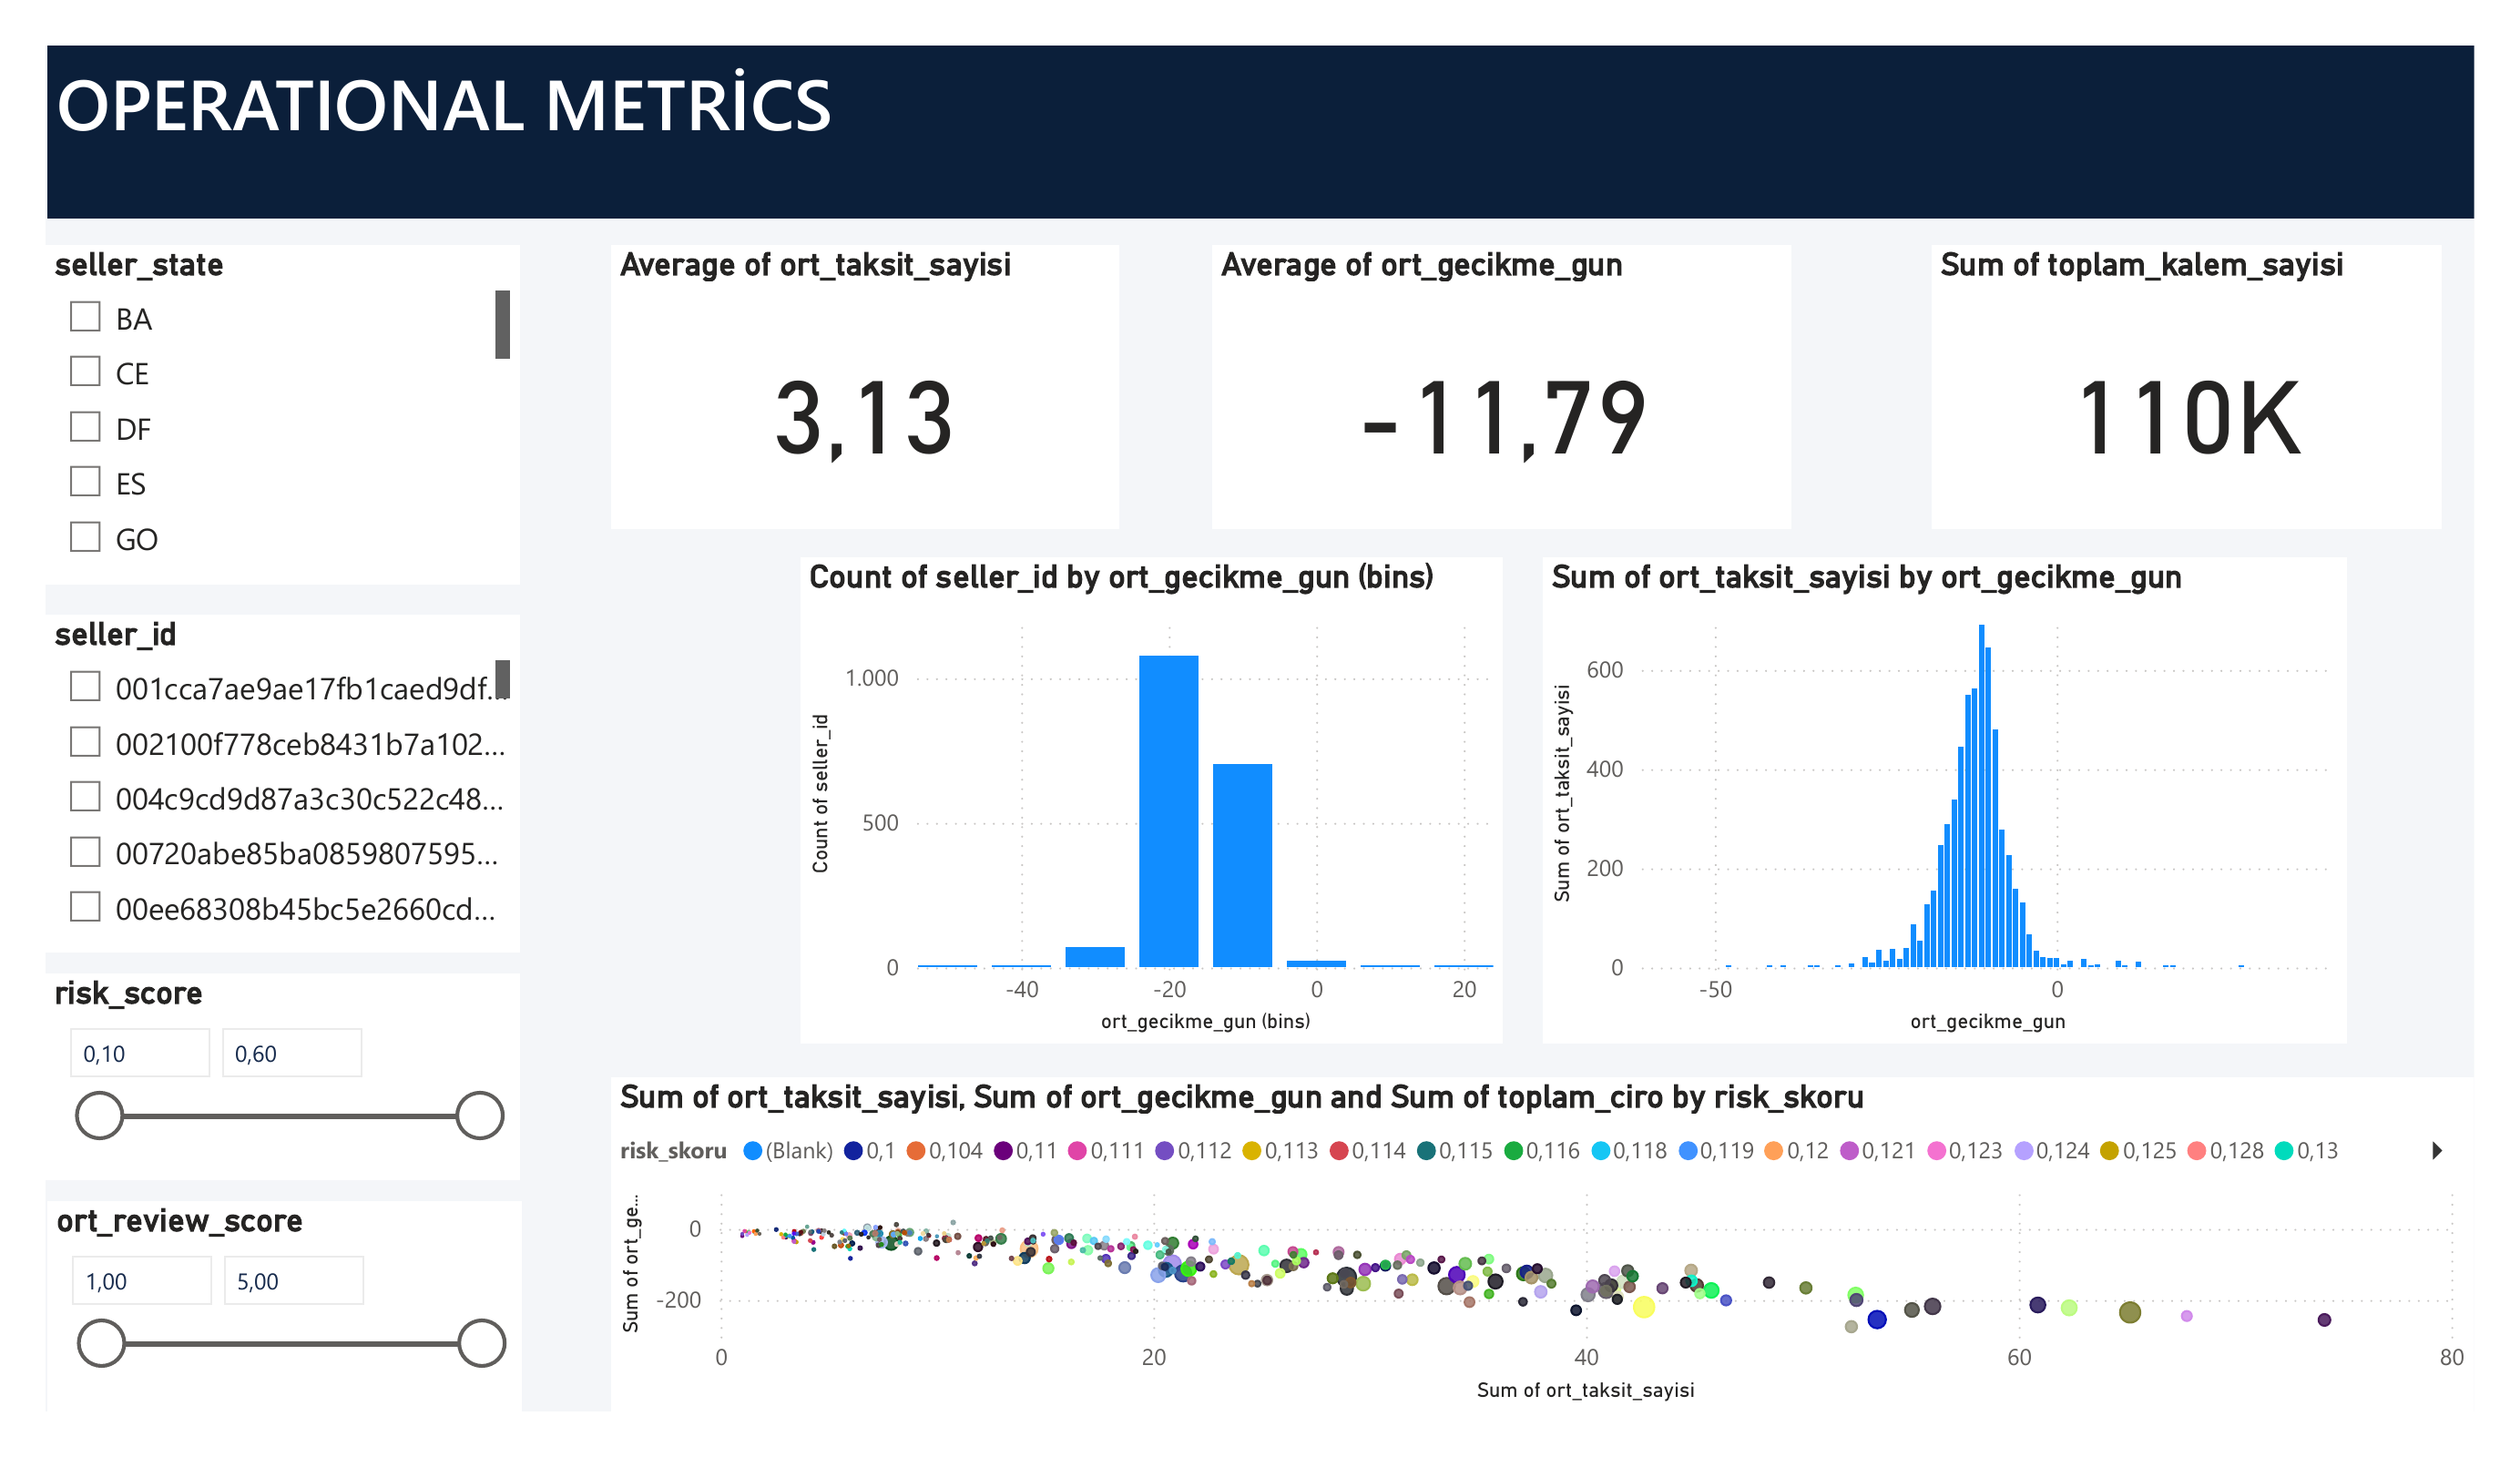

This screenshot's page, from the dashboard's own definition file:
{"tool":"powerbi","page":{"name":"Operational Metrics","canvas":[1280,720],"ordinal":5},"visuals":[{"type":"textbox","box":[1.4,0,1278.6,91.4],"z":0},{"type":"card","title":"Average of ort_taksit_sayisi","fields":{"Values":["Avg(Query1.ort_taksit_sayisi)"]},"box":[297.5,105,268.8,150],"z":1000},{"type":"card","title":"Average of ort_gecikme_gun","fields":{"Values":["Avg(Query1.ort_gecikme_gun)"]},"box":[615,105,305,150],"z":2000},{"type":"card","title":"Sum of toplam_kalem_sayisi","fields":{"Values":["Sum(Query1.toplam_kalem_sayisi)"]},"box":[993.8,105,268.8,150],"z":3000},{"type":"scatterChart","fields":{"X":["Sum(Query1.ort_taksit_sayisi)"],"Y":["Sum(Query1.ort_gecikme_gun)"],"Size":["Sum(Query1.toplam_ciro)"],"Series":["Query1.risk_skoru"]},"box":[297.5,543.8,982.5,176.2],"z":4000},{"type":"clusteredColumnChart","fields":{"Category":["Query1.ort_gecikme_gun (bins)"],"Y":["CountNonNull(Query1.seller_id)"]},"box":[397.5,270,370,256.2],"z":5000},{"type":"slicer","title":"seller_state","fields":{"Values":["Query1.seller_state"]},"box":[0,105,250,178.8],"z":6000},{"type":"slicer","title":"risk_score","fields":{"Values":["Query1.risk_skoru"]},"box":[0,488.8,250,108.8],"z":7000},{"type":"slicer","title":"seller_id","fields":{"Values":["Query1.seller_id"]},"box":[0,300,250,177.5],"z":8000},{"type":"slicer","title":"ort_review_score","fields":{"Values":["Query1.ort_review_score"]},"box":[1.2,608.8,250,111.2],"z":9000},{"type":"clusteredColumnChart","fields":{"Category":["Query1.ort_gecikme_gun"],"Y":["Sum(Query1.ort_taksit_sayisi)"]},"box":[788.8,270,423.8,256.2],"z":10000}]}

Visuals, with their boxes on the page's 1280x720 design canvas (x1, y1, x2, y2). These are canvas units, not pixel positions in the 2520x1457 screenshot, which may show the page scaled, cropped or inside an application window:
textbox: (left=1, top=0, right=1280, bottom=91)
"Average of ort_taksit_sayisi" card: (left=298, top=105, right=566, bottom=255)
"Average of ort_gecikme_gun" card: (left=615, top=105, right=920, bottom=255)
"Sum of toplam_kalem_sayisi" card: (left=994, top=105, right=1263, bottom=255)
scatterChart - Sum(Query1.ort_taksit_sayisi) x Sum(Query1.ort_gecikme_gun): (left=298, top=544, right=1280, bottom=720)
clusteredColumnChart - Query1.ort_gecikme_gun (bins) x CountNonNull(Query1.seller_id): (left=398, top=270, right=768, bottom=526)
"seller_state" slicer: (left=0, top=105, right=250, bottom=284)
"risk_score" slicer: (left=0, top=489, right=250, bottom=598)
"seller_id" slicer: (left=0, top=300, right=250, bottom=478)
"ort_review_score" slicer: (left=1, top=609, right=251, bottom=720)
clusteredColumnChart - Query1.ort_gecikme_gun x Sum(Query1.ort_taksit_sayisi): (left=789, top=270, right=1213, bottom=526)
